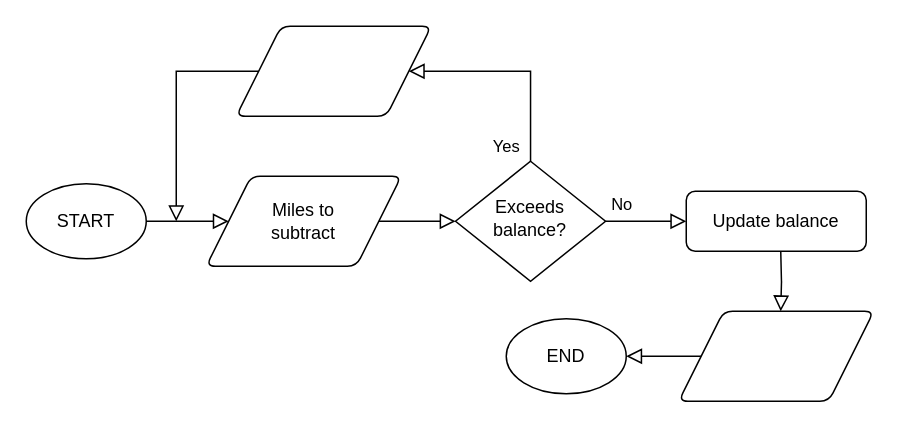
Image size: 900x428. Some labels were removed from this diagram. The centre of each missing label's shape, as x and y in pixels:
"Display balance" belongs at [775,355].
"Exceeded balance" belongs at [333,70].
